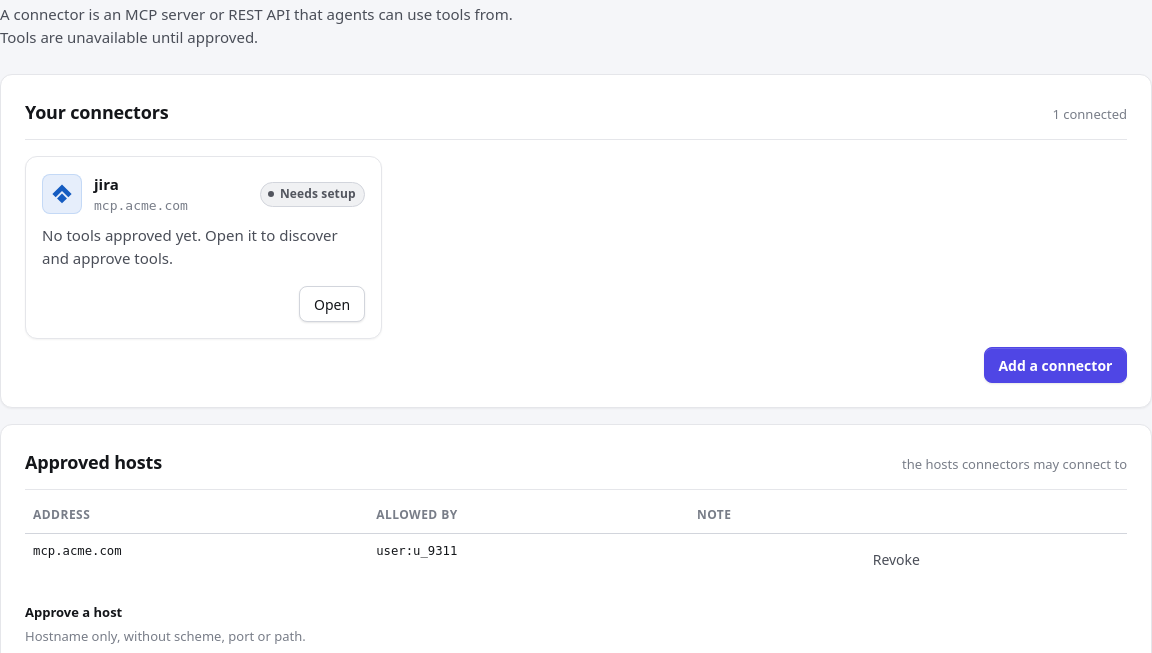
Test: hosts › names the connectors a revoke stranded, and says they were not deleted
What coordinates should you click on to do the following:
click the button "Revoke"
I would click on:
 (896, 560)
Its box is left=863, top=542, right=930, bottom=578.
(page scrolled)
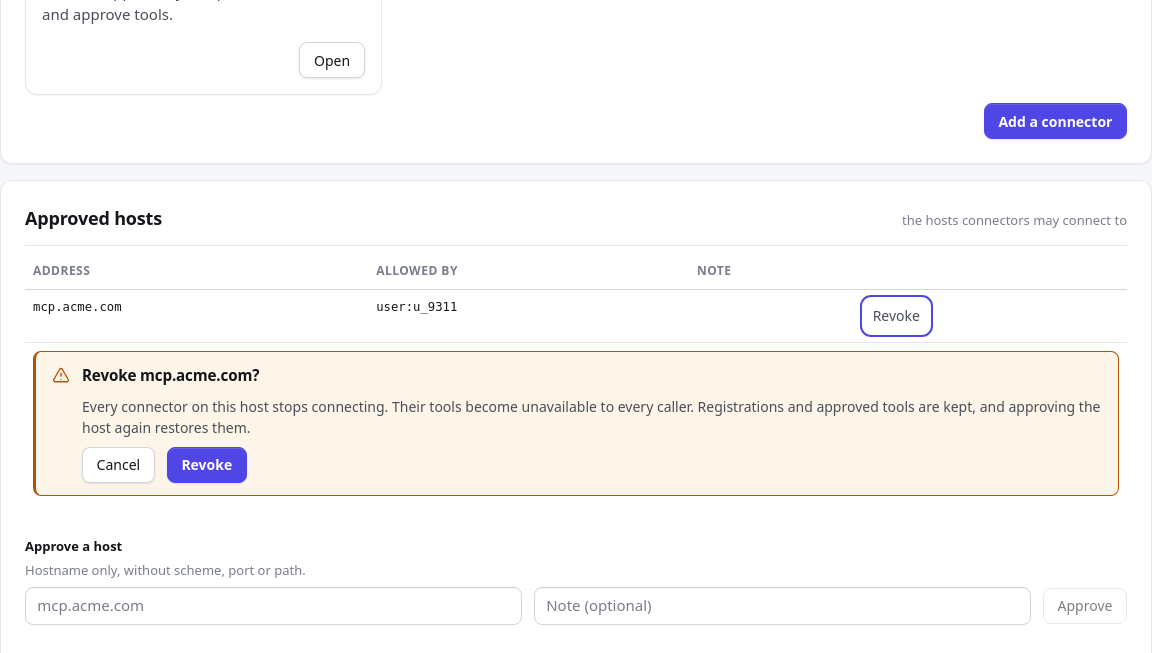
// The confirm is the one alert on the page, and its Revoke is the one that acts.
What coordinates should you click on to do the following:
click the button "Revoke" below "Revoke mcp.acme.com?"
I would click on:
 (207, 465)
Its box is left=167, top=447, right=247, bottom=483.
(page scrolled)
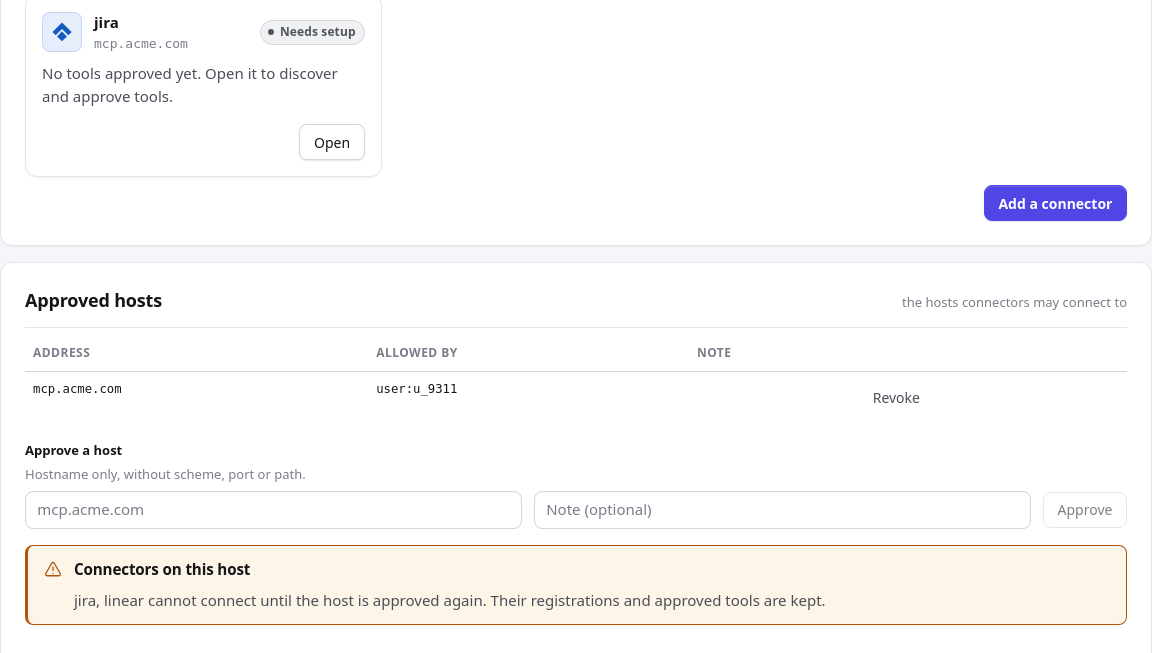
Expected: the text "jira, linear" is shown, left=74, top=590, right=144, bottom=610
Expected: the text "Their registrations and approved tools are kept" is shown, left=144, top=590, right=826, bottom=610
